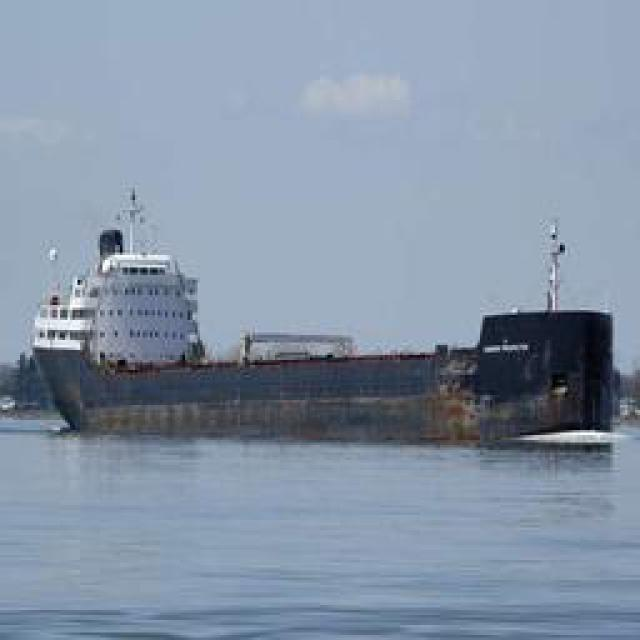Ship: (34, 226, 467, 434)
